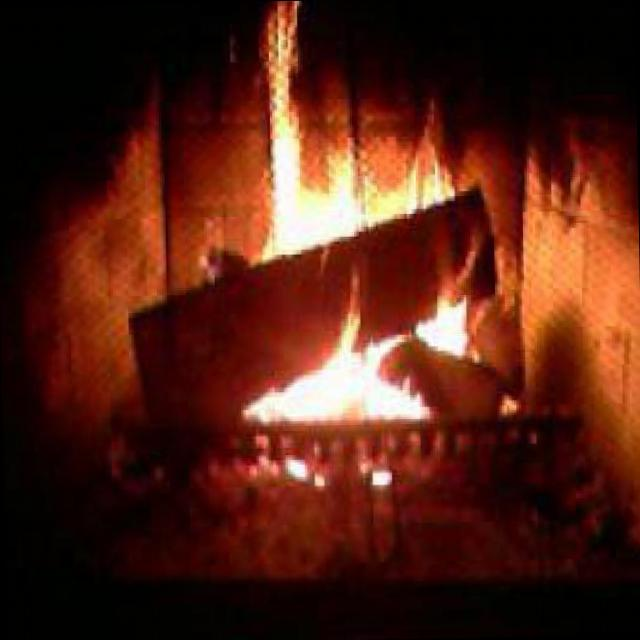fire: (229, 0, 490, 453)
